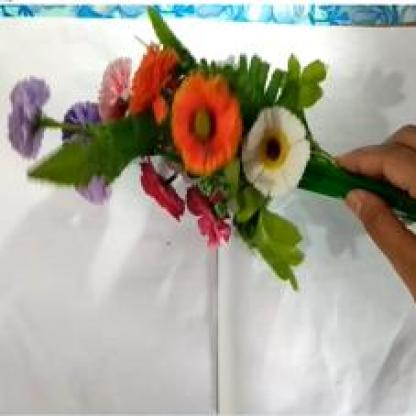flower: (13, 15, 414, 328)
